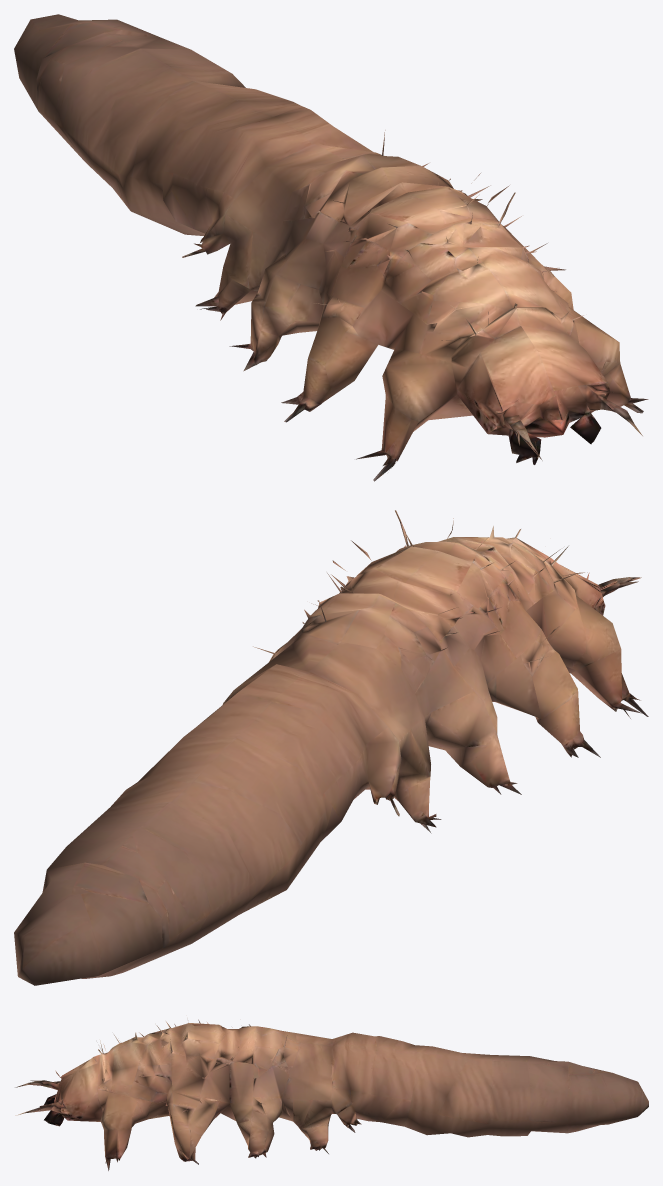
The model's file is demodex-ref.glb.
The picture shows the model from 3 angles, top to bottom: view 1: azimuth 30°, elevation 25°; view 2: azimuth 150°, elevation 25°; view 3: azimuth 270°, elevation 25°; orthographic projection. The views are drawn at different scales.
Visible parts, largest first — view 1: mesh_node; view 2: mesh_node; view 3: mesh_node.
Part boxes in pixels (x1,y1,x2,y2): mesh_node: (14,14,648,481); mesh_node: (14,510,648,985); mesh_node: (15,1019,648,1170).
Size of the model in its own units: 0.6129 by 0.3823 by 1.9.
Materials: 1 (1 with a texture image).
